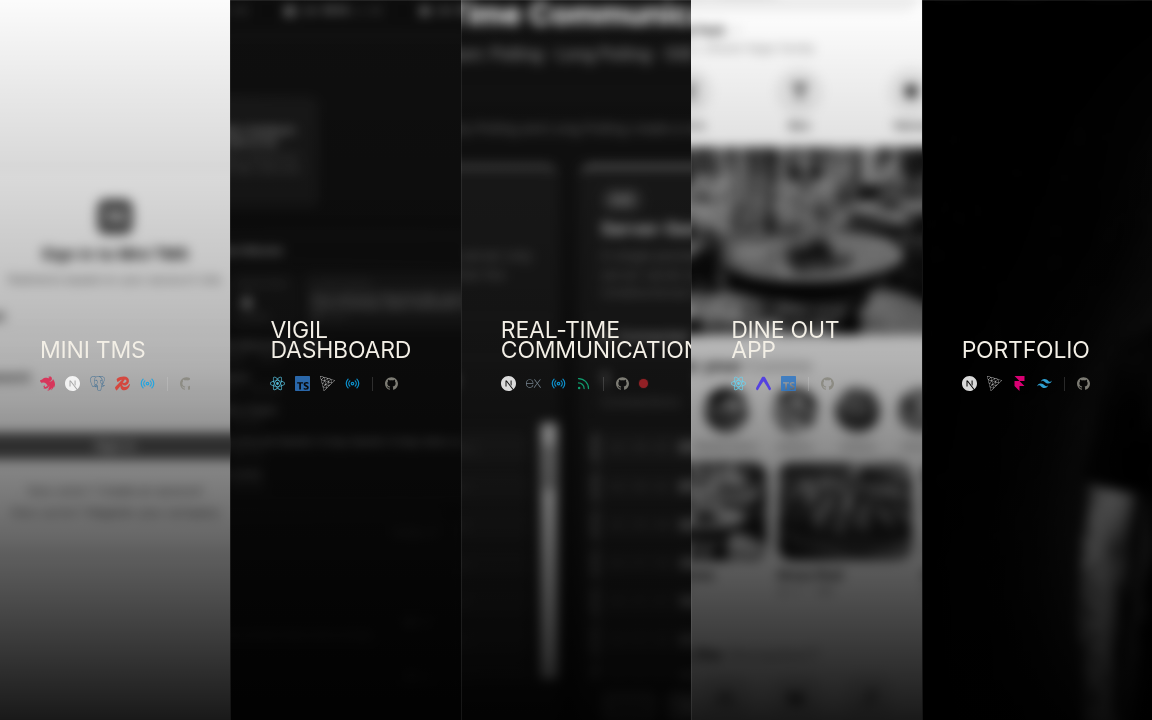
WorkSection — desktop panels › expands a panel on click and makes its links keyboard-reachable
The image size is (1152, 720).
Click the button "Mini TMS": (115, 360) [0,0,230,719]
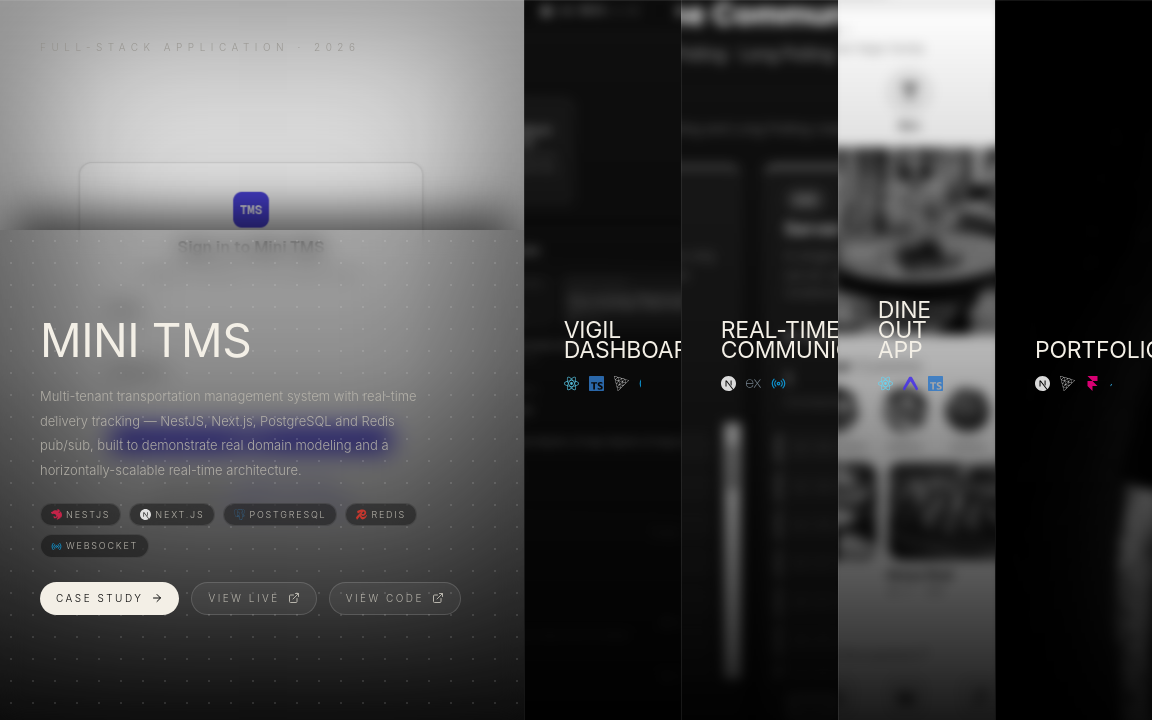
Expected: the button "Mini TMS" is expanded, [0,0,524,719]
